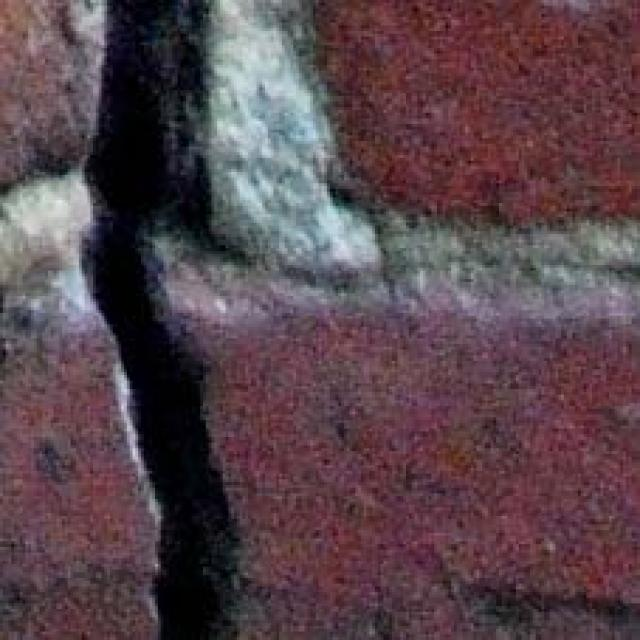Crack: (49, 0, 350, 640)
